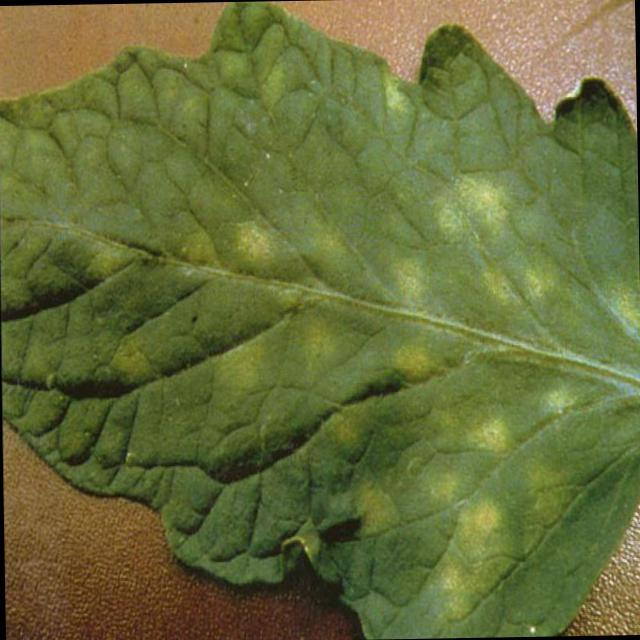Leaf Mold: (123, 38, 640, 632)
